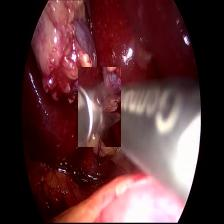Scissors: (78, 67, 121, 147)
